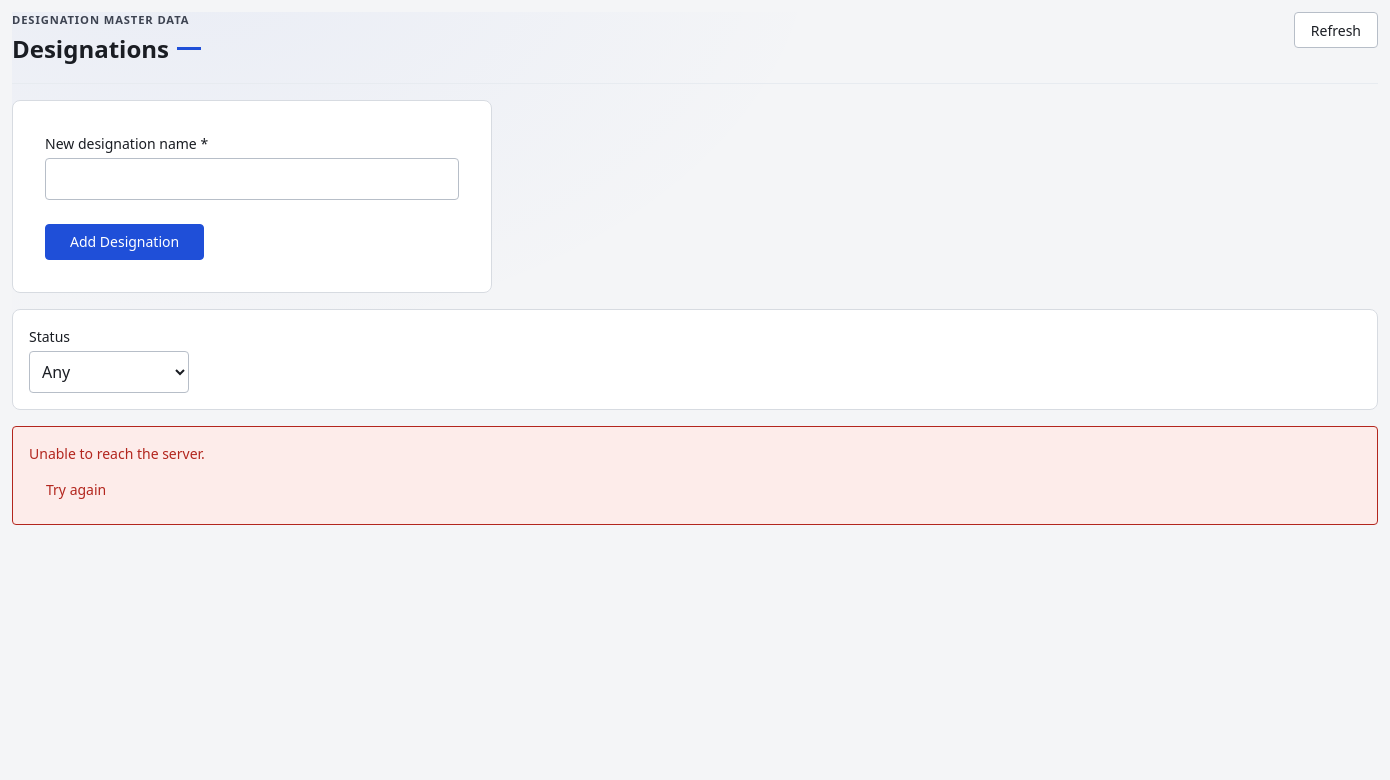
Test: DesignationListPage › shows a retryable error state
Expected: the message shows "reach the server", [29,444,205,463]
Click the button "Try again" at (76, 490), box [29,472,123,508]
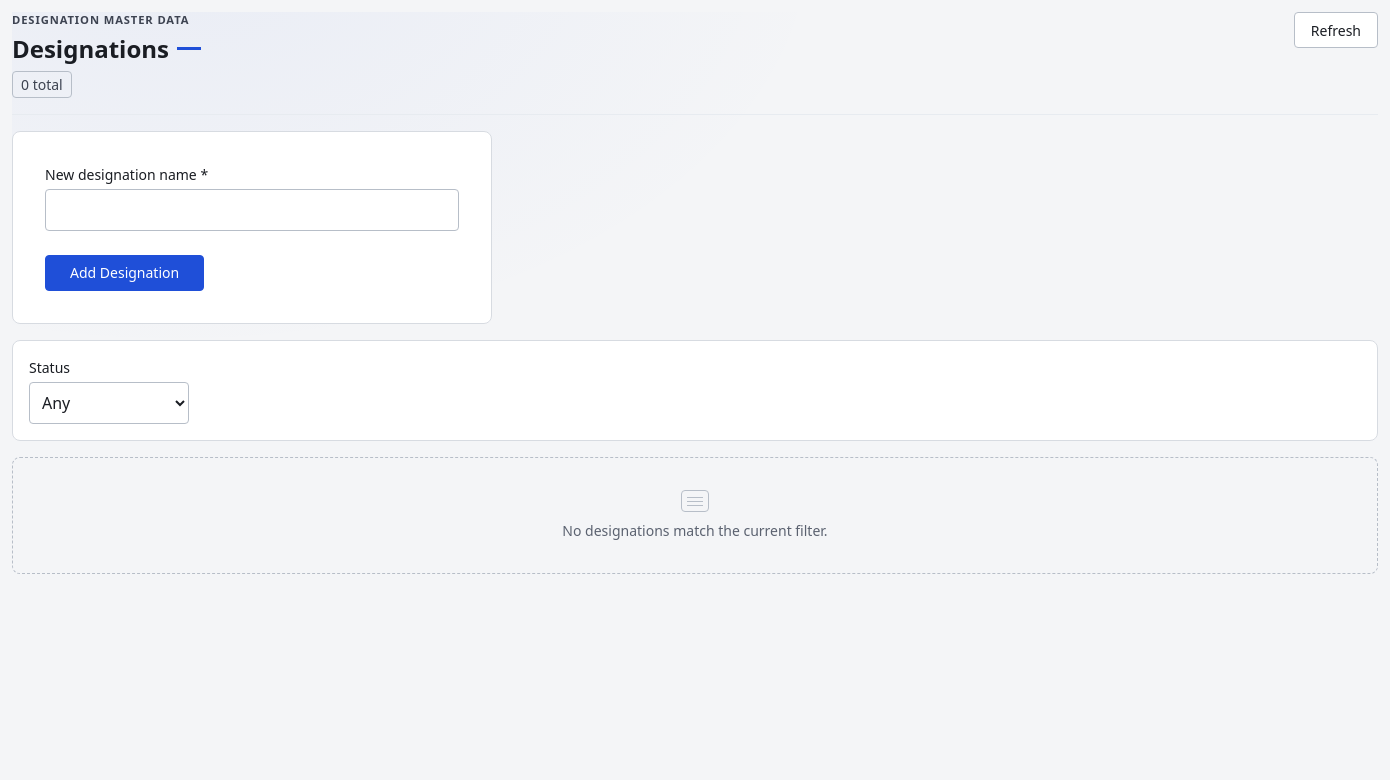
Now the text "No designations match the current filter." is shown, box [562,520,828,541]
